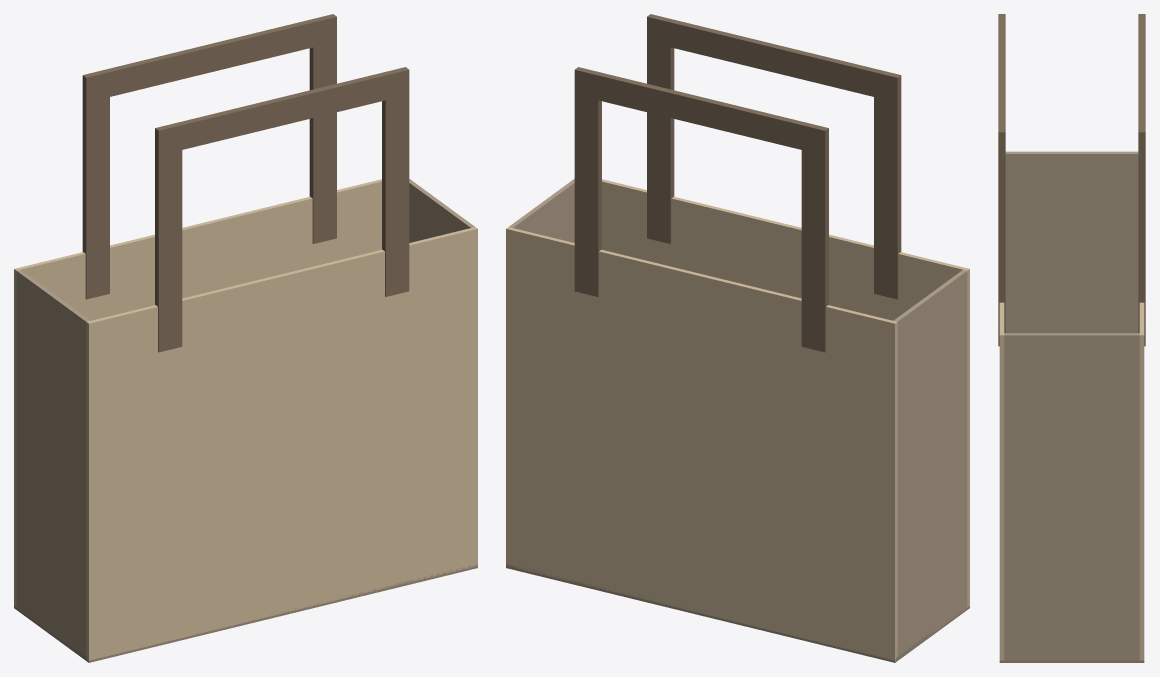
Rendered from zaodian_tote_test_v1.0.0.glb.
The picture shows the model from 3 angles, left to right: view 1: azimuth 30°, elevation 25°; view 2: azimuth 150°, elevation 25°; view 3: azimuth 270°, elevation 25°; orthographic projection. The views are drawn at different scales.
Visible parts, largest first — view 1: front_panel, left_gusset, back_panel, handle_left, handle_right, right_gusset, bottom_panel; view 2: back_panel, left_gusset, front_panel, handle_right, handle_left, right_gusset, bottom_panel; view 3: right_gusset, left_gusset, handle_left, handle_right, front_panel, back_panel, bottom_panel.
Boxes of the visible parts, x1,y1,x2,y2 form: front_panel: (86, 227, 477, 660); left_gusset: (16, 269, 90, 658); back_panel: (14, 179, 381, 607); handle_left: (155, 67, 409, 352); handle_right: (82, 14, 336, 299); right_gusset: (409, 179, 474, 242); bottom_panel: (14, 564, 477, 662); back_panel: (506, 227, 897, 660); left_gusset: (893, 269, 967, 655); front_panel: (602, 179, 969, 607); handle_right: (574, 67, 828, 352); handle_left: (647, 14, 901, 299); right_gusset: (509, 179, 574, 242); bottom_panel: (506, 564, 969, 662); right_gusset: (1004, 333, 1139, 660); left_gusset: (1005, 151, 1138, 333); handle_left: (998, 14, 1005, 346); handle_right: (1138, 14, 1145, 346); front_panel: (999, 302, 1004, 660); back_panel: (1139, 302, 1144, 660); bottom_panel: (999, 660, 1144, 662).
Bounding box in the file's own units: 0.36 × 0.456 × 0.122.
